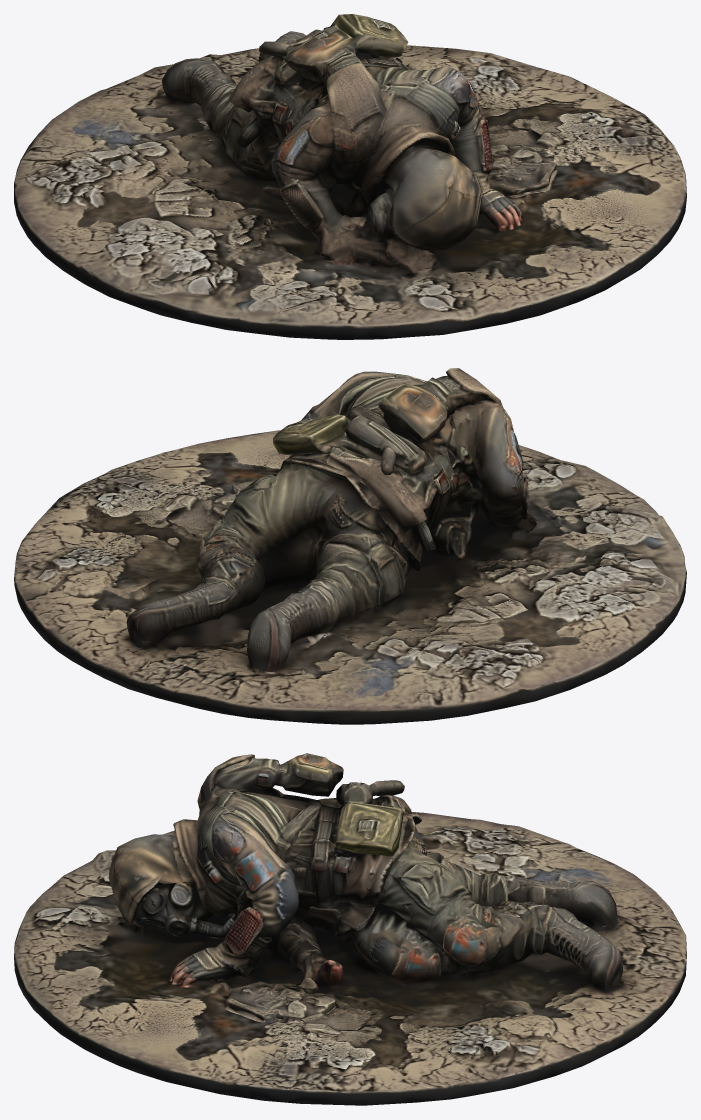
File: ShiTi.fbx
3 renders of one model, top to bottom at view 1: azimuth 30°, elevation 25°; view 2: azimuth 150°, elevation 25°; view 3: azimuth 270°, elevation 25°, orthographic.
Parts seen in each view (by area): view 1: mesh_node; view 2: mesh_node; view 3: mesh_node.
Part boxes in pixels (x1,y1,x2,y2): mesh_node: (14,14,686,339); mesh_node: (14,368,686,724); mesh_node: (14,753,686,1105).
Size of the model in its own units: 1.98 by 0.6066 by 1.98.
